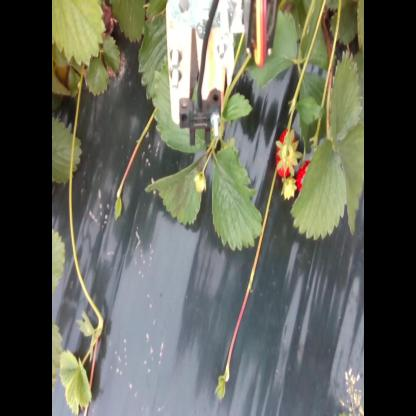ripe: (274, 128, 299, 180), (297, 158, 322, 198)
unripe: (194, 172, 208, 196)
